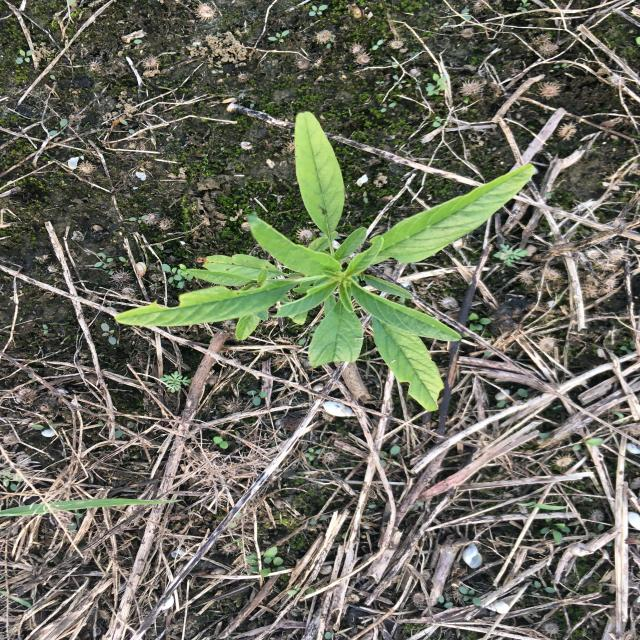Ragweed: (158, 370, 195, 395)
Waterhemp: (111, 110, 539, 413)
